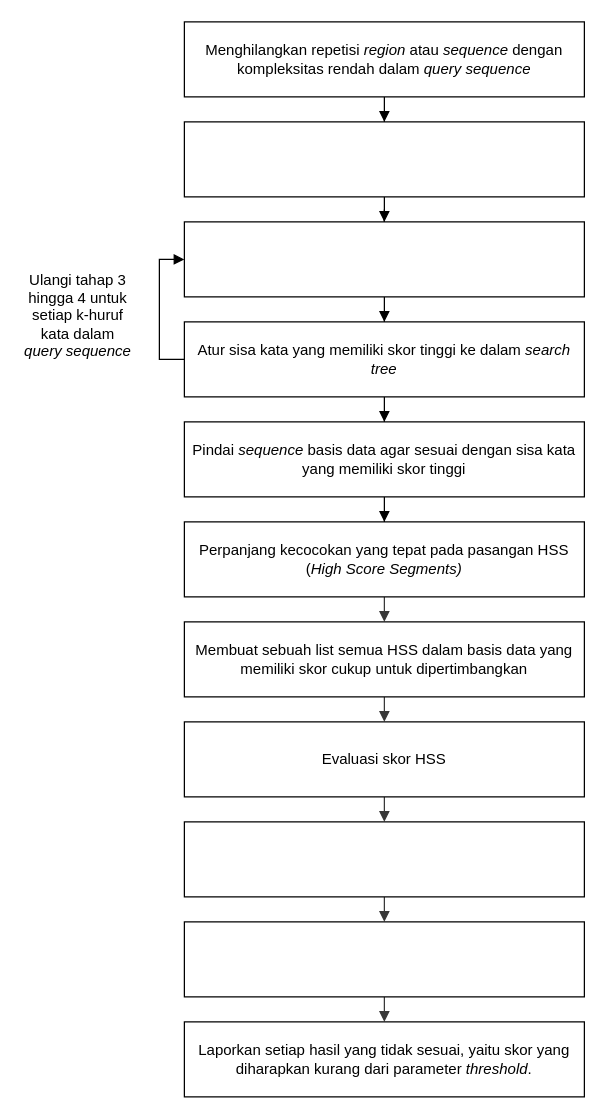
The diagram is 606 pixels wide and 1119 high, and some of its shapes have lost their labels. The shapes that lost their labels are listed below. From the top down, each one's centre as x and y in pixels, then its label:
the point at 383,159: Membuat sebuah list berisikan k-huruf kata dari query sequence .
the point at 383,259: Urutkan kemungkinan kata yang sesuai
the point at 383,859: Membuat dua atau lebih region HASS pada alignment yang lebih panjang
the point at 383,959: Lihat alignment lokal pada query dan setiap sequences basis data yang sama
